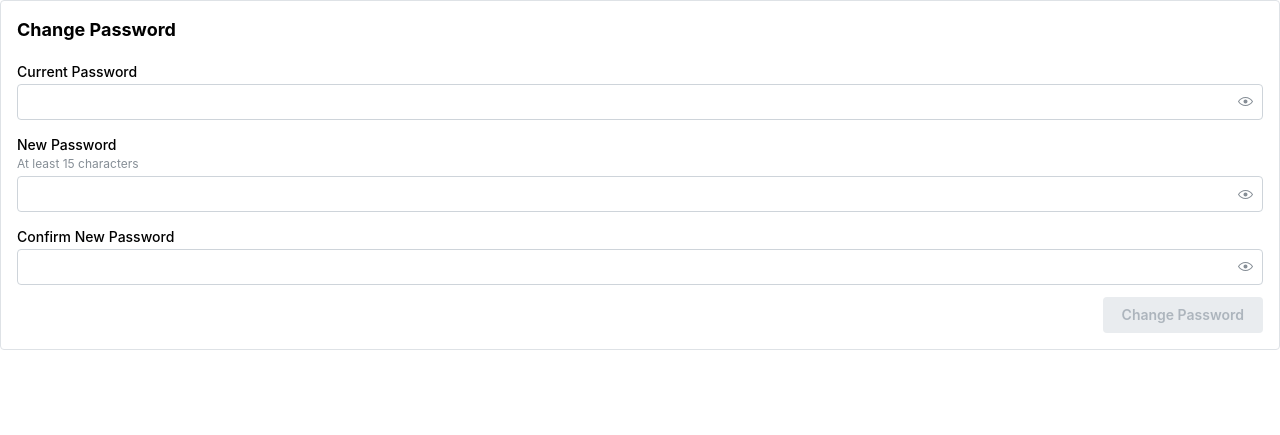
Test: PasswordSection › surfaces the server-supplied error message on API failure
The image size is (1280, 435).
Type "current-password-long-enough" into the password field labelled "Current Password" at [640, 102], box left=18, top=85, right=1262, bottom=119
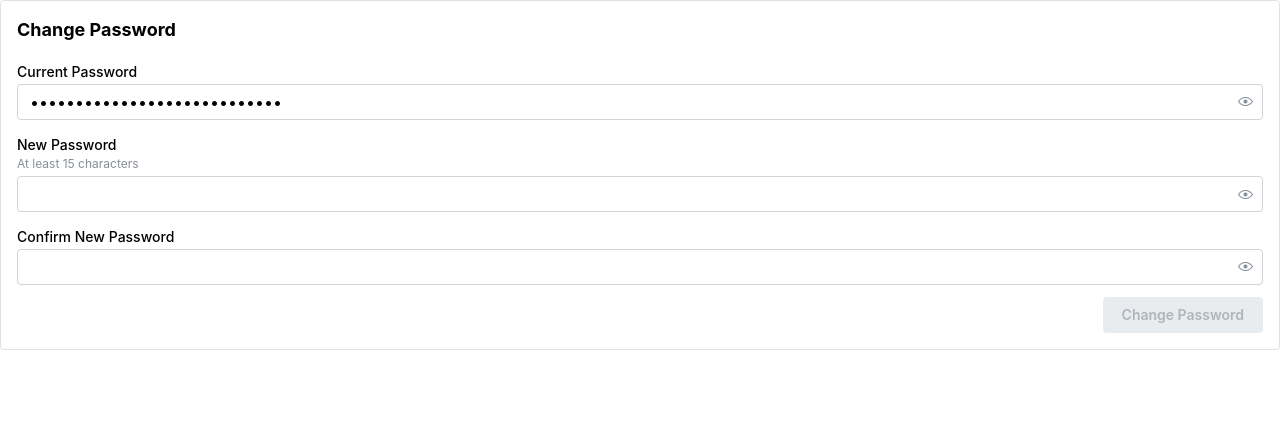
Type "new-password-15x" into the password field labelled "New Password" at [640, 194], box left=18, top=177, right=1262, bottom=211
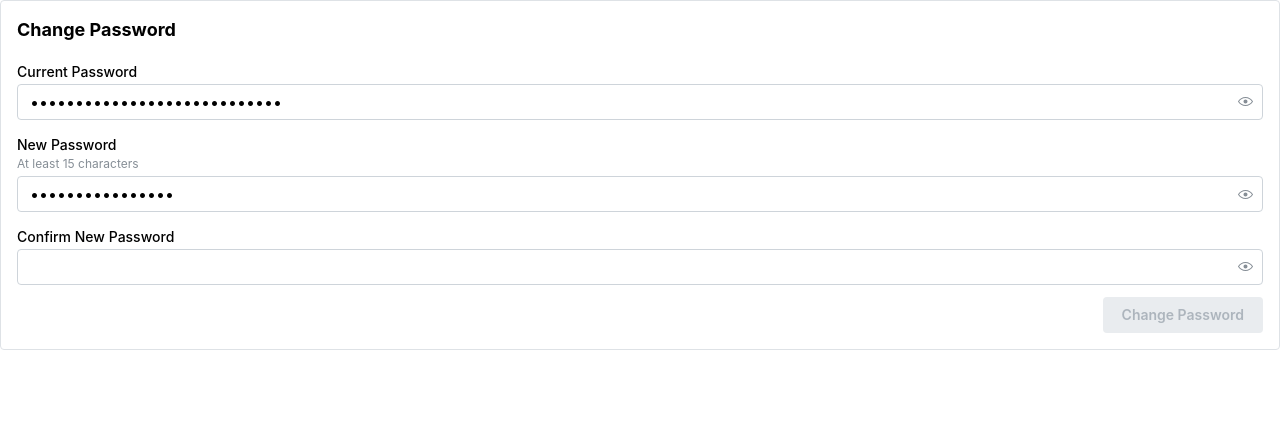
Type "new-password-15x" into the password field labelled "Confirm New Password" at [640, 267], box left=18, top=250, right=1262, bottom=284
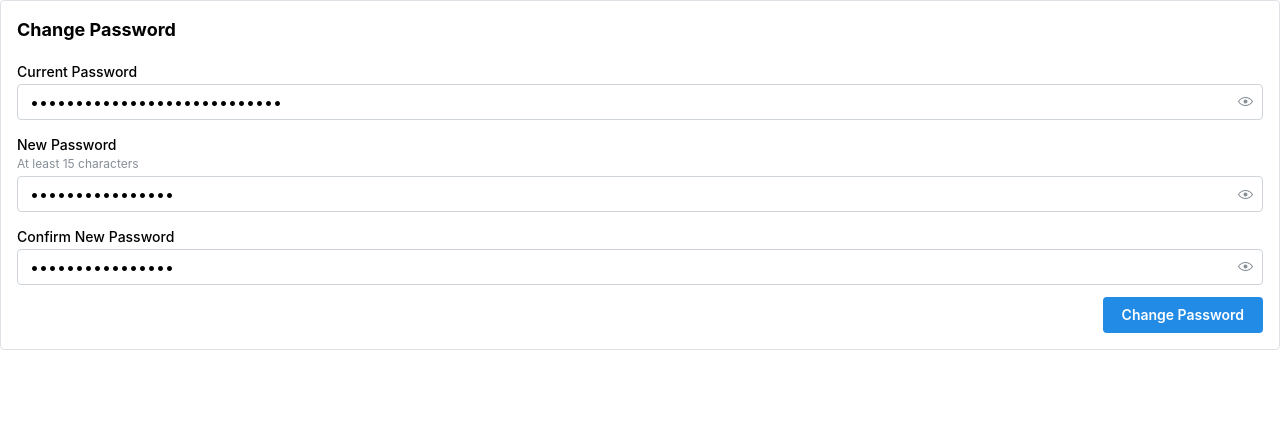
Click the button "Change Password" at [1183, 315], box left=1103, top=297, right=1263, bottom=333
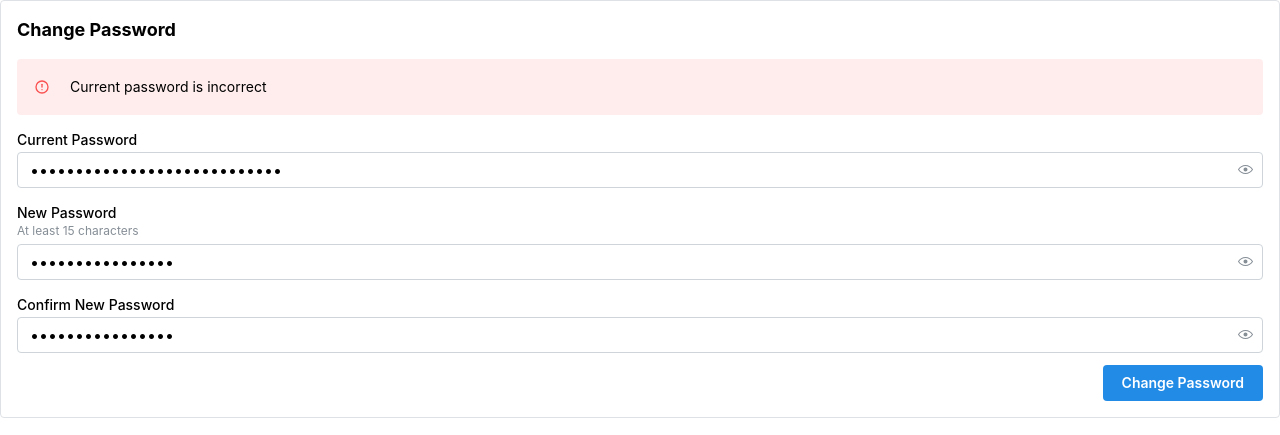
Check: the message reads "Current password is incorrect", box left=70, top=78, right=266, bottom=95
